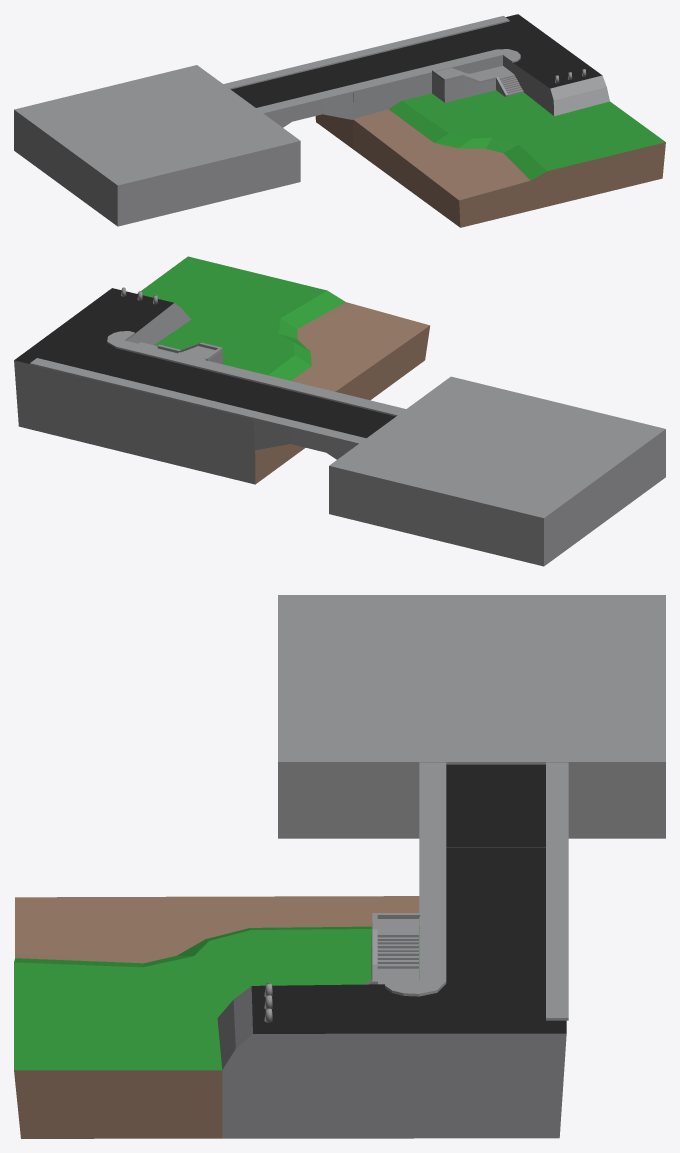
File: apocalipse_scenario.glb
The picture shows the model from 3 angles, top to bottom: view 1: azimuth 30°, elevation 25°; view 2: azimuth 150°, elevation 25°; view 3: azimuth 270°, elevation 25°; orthographic projection. The views are drawn at different scales.
Parts seen in each view (by area): view 1: Cube.001; view 2: Cube.001; view 3: Cube.001.
Boxes of the visible parts, box(x1,y1,x2,y2) form: Cube.001: box(14, 14, 665, 227); Cube.001: box(14, 256, 665, 566); Cube.001: box(14, 595, 665, 1138).
Bounding box in the file's own units: 612 × 77.87 × 387.
Materials: 4 (1 with a texture image).
